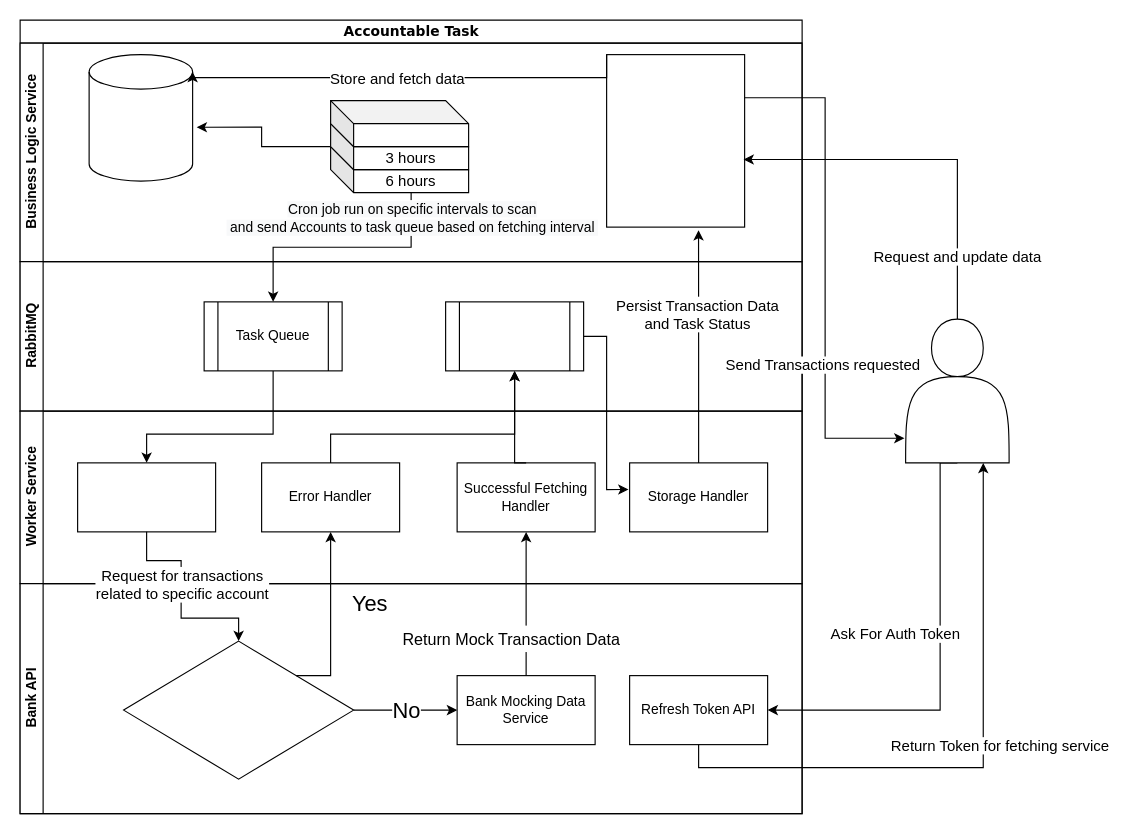
The diagram is 1128 pixels wide and 834 high, and some of its shapes have lost their labels. Each missing label, with the centre of its shape:
"1 hour" belongs at (399,123).
"Database" belongs at (140,117).
"Restful API Interface" belongs at (675,140).
"Status/Ack Queue" belongs at (514,336).
"Task Queue Consumer Handler" belongs at (146,497).
"Technical or Authorization Error ?" belongs at (238,709).
